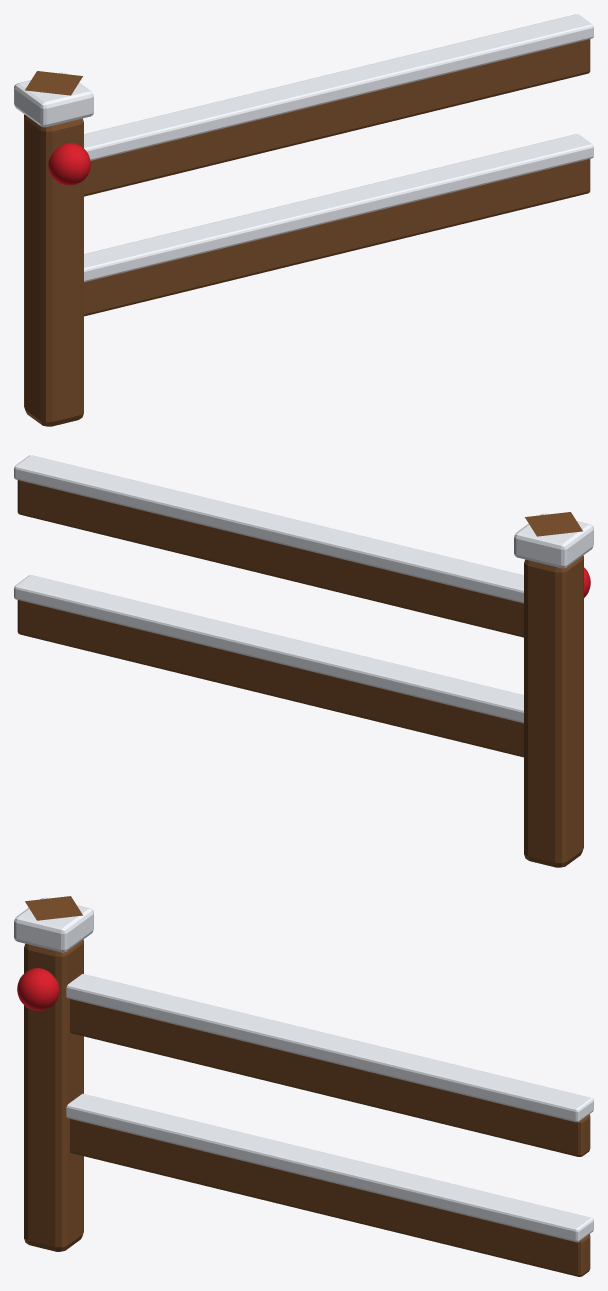
The model's file is fence.glb.
The picture shows the model from 3 angles, top to bottom: view 1: azimuth 30°, elevation 25°; view 2: azimuth 150°, elevation 25°; view 3: azimuth 330°, elevation 25°; orthographic projection.
Parts seen in each view (by area): view 1: fence; view 2: fence; view 3: fence.
Boxes of the visible parts, box(x1,y1,x2,y2) form: fence: box(14, 14, 593, 426); fence: box(14, 455, 593, 867); fence: box(14, 896, 593, 1276).
Bounding box in the file's own units: 2.11 × 1.2 × 0.28.
